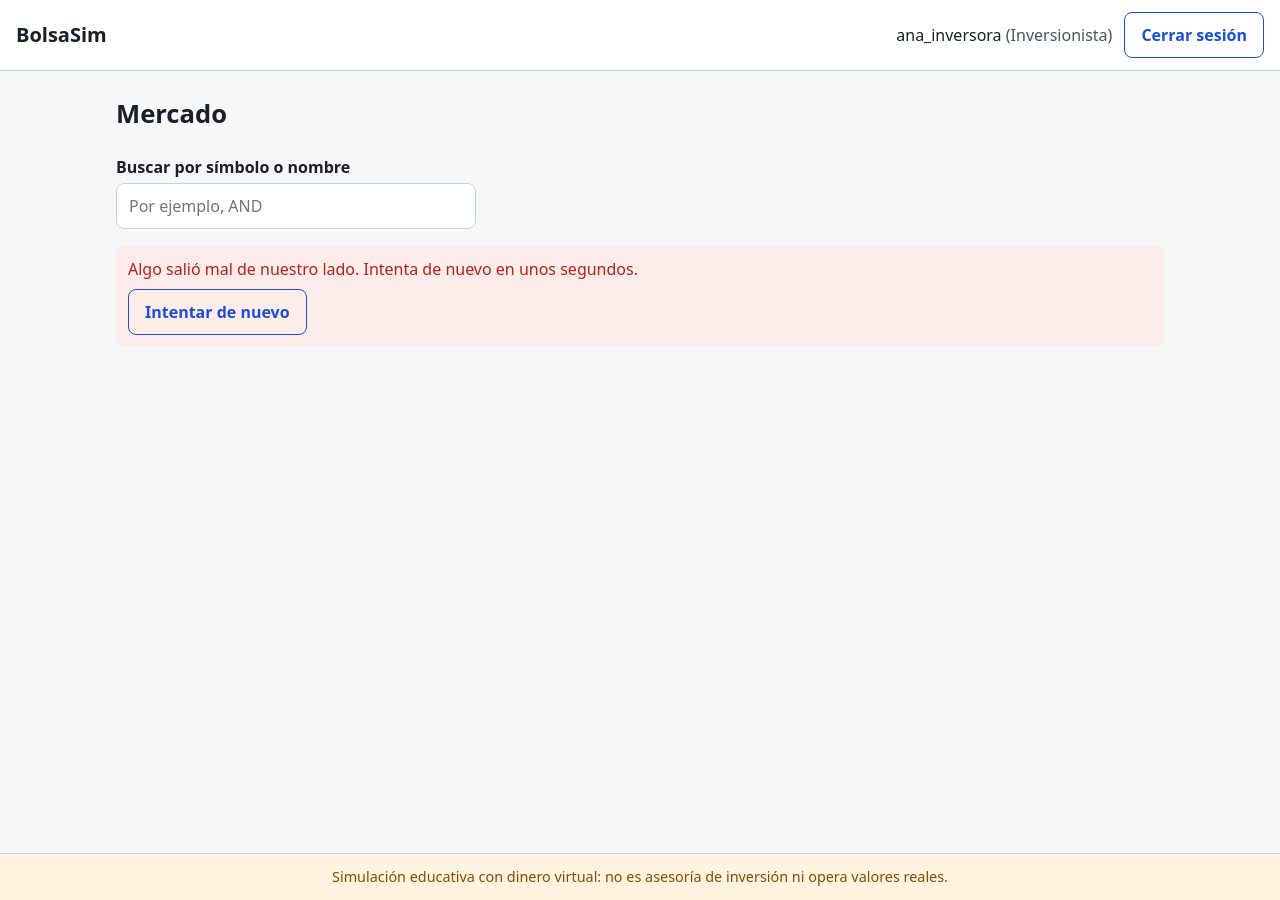
Mercado (HU-14) › si falla, muestra el error y se puede reintentar
The width and height of the screenshot is (1280, 900).
Check: the message shows "Algo salió mal de nuestro lado", box [128,258,638,280]
Click the button "Intentar de nuevo": (217, 312) [128,289,307,335]
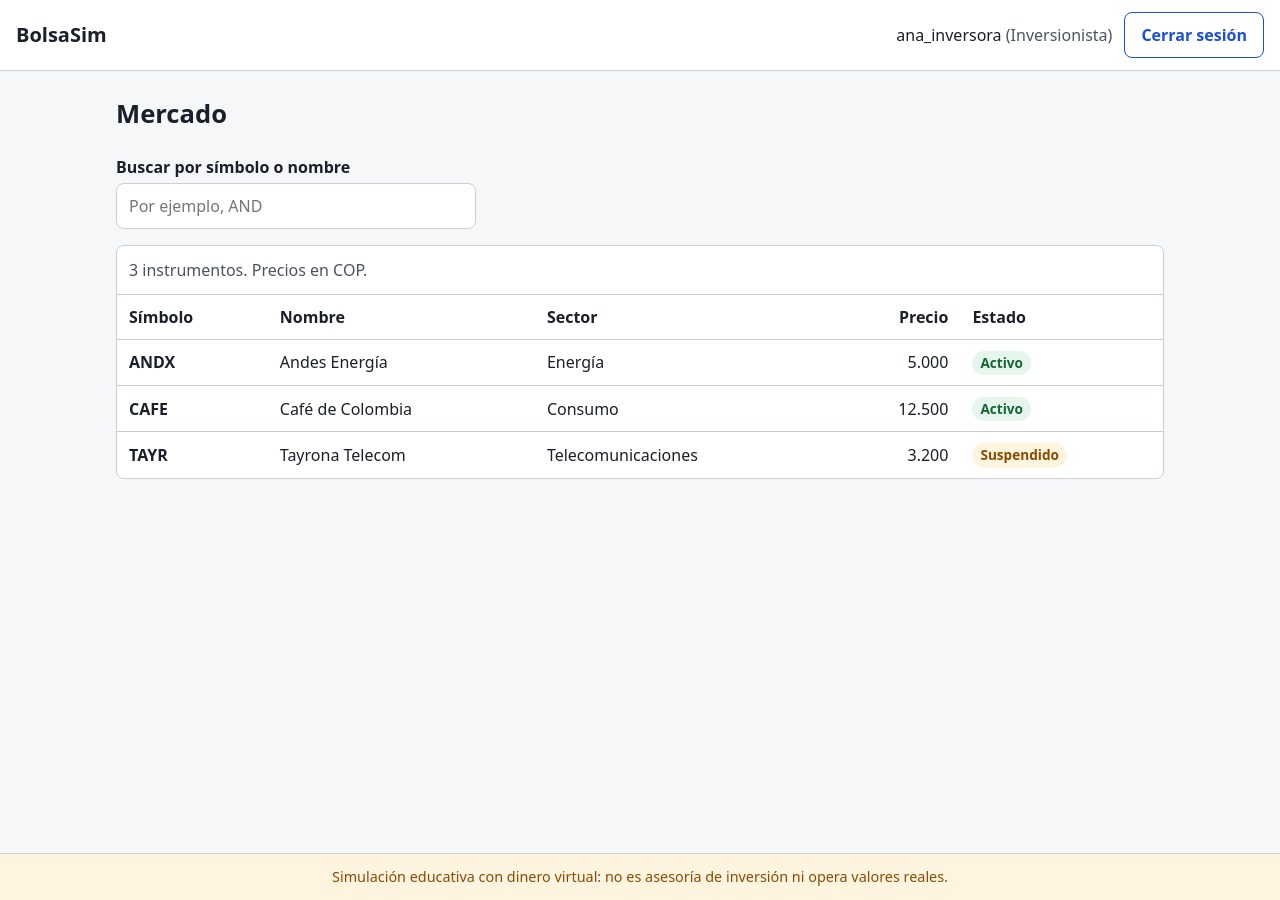
Check: the table is shown, box [117,246,1163,478]
